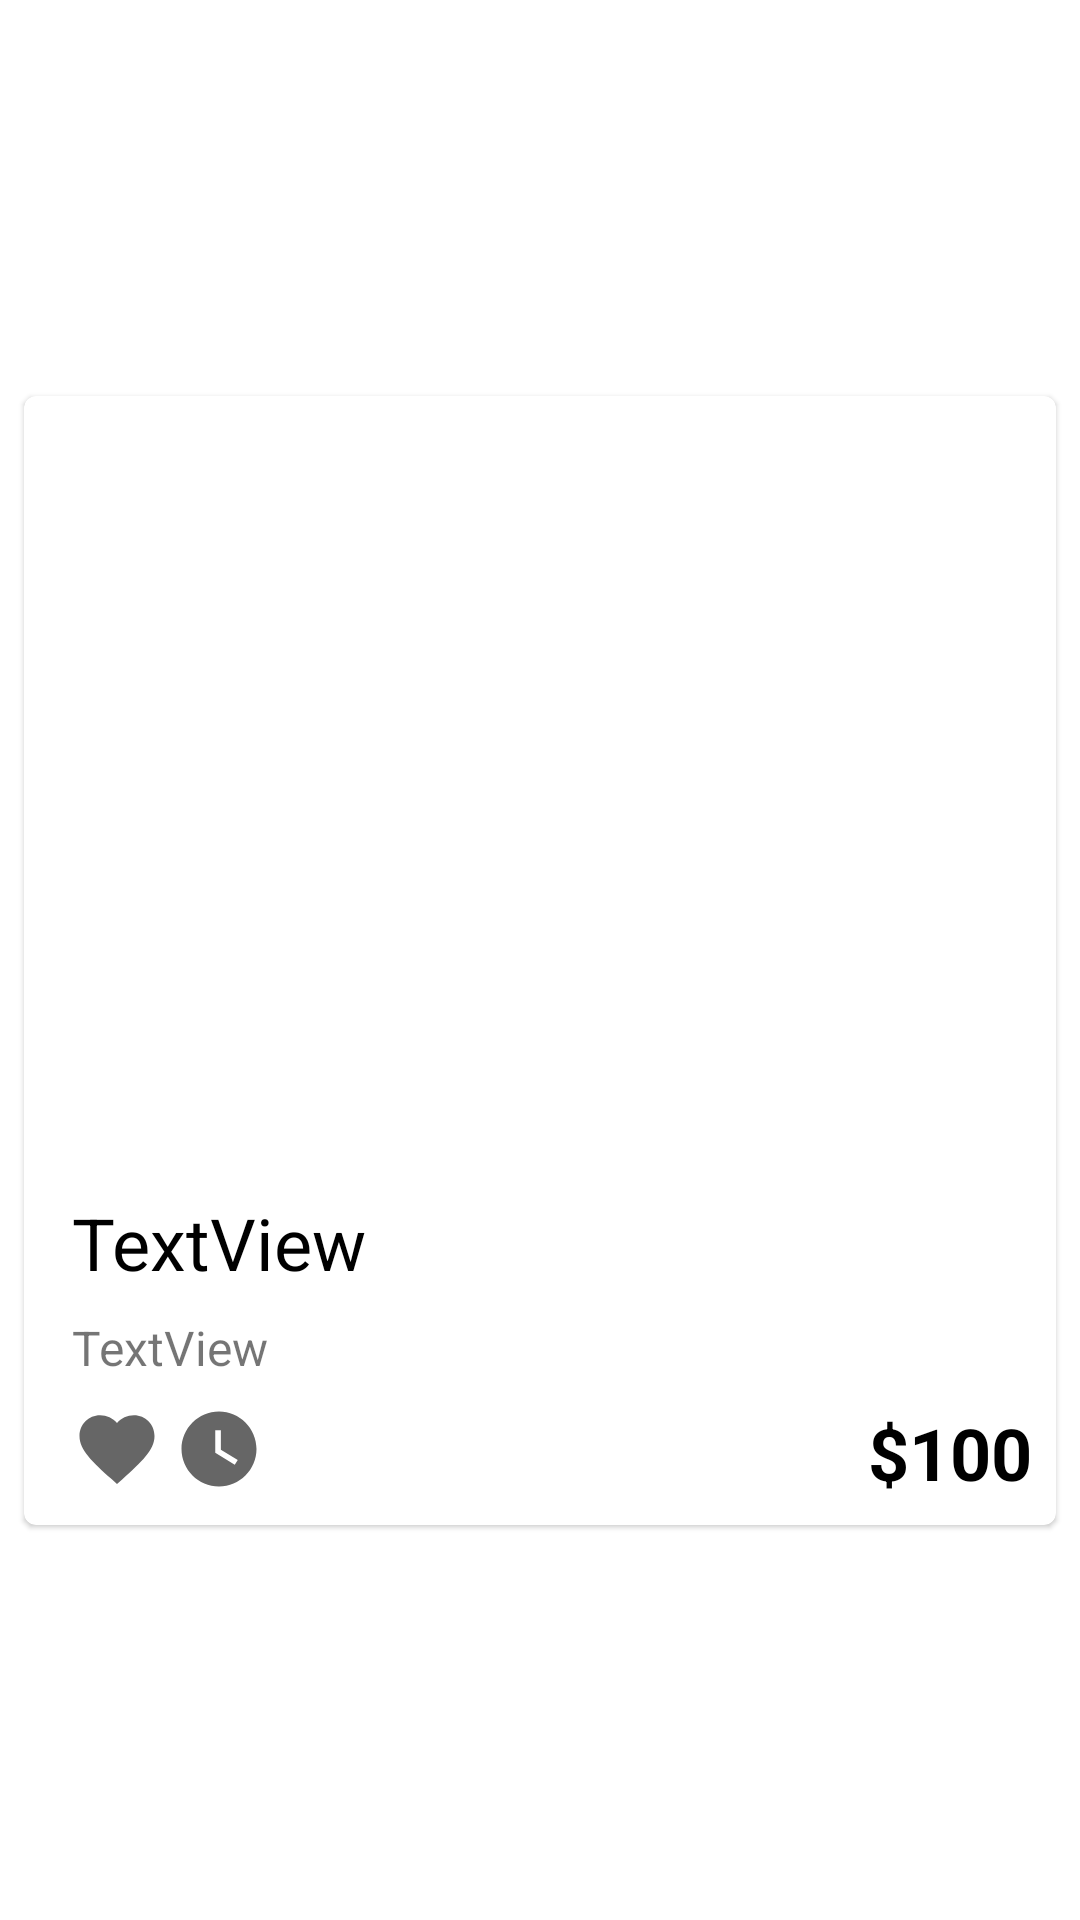

Where icons sit on this 1080w x 1920h app screen, as (x1, y1, x2, y2):
watch later: (181, 1411, 257, 1487)
